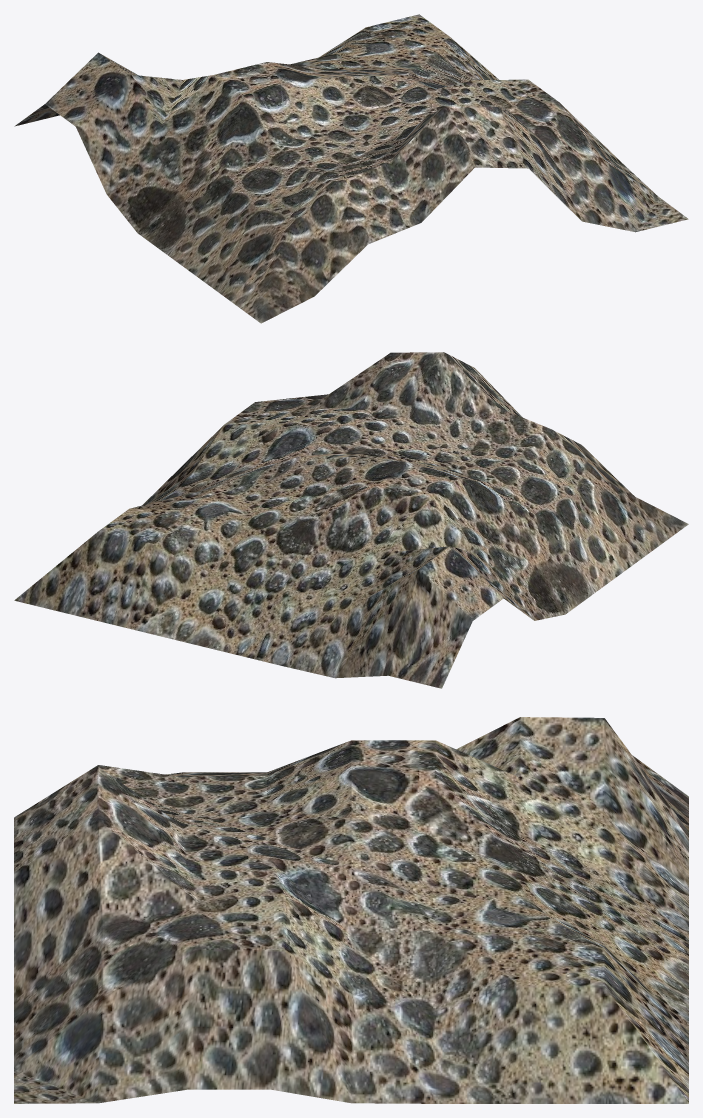
The model's file is bottom.obj.
3 views of the same model, one above another, from view 1: azimuth 30°, elevation 25°; view 2: azimuth 150°, elevation 25°; view 3: azimuth 270°, elevation 25° (orthographic). The views are drawn at different scales.
Parts seen in each view (by area): view 1: Plane.004; view 2: Plane.004; view 3: Plane.004.
Boxes of the visible parts, left/top/right/bottom form: Plane.004: left=14, top=14, right=688, bottom=323; Plane.004: left=14, top=352, right=688, bottom=688; Plane.004: left=14, top=717, right=688, bottom=1103.
Size of the model in its own units: 15.13 by 4.81 by 15.13.
